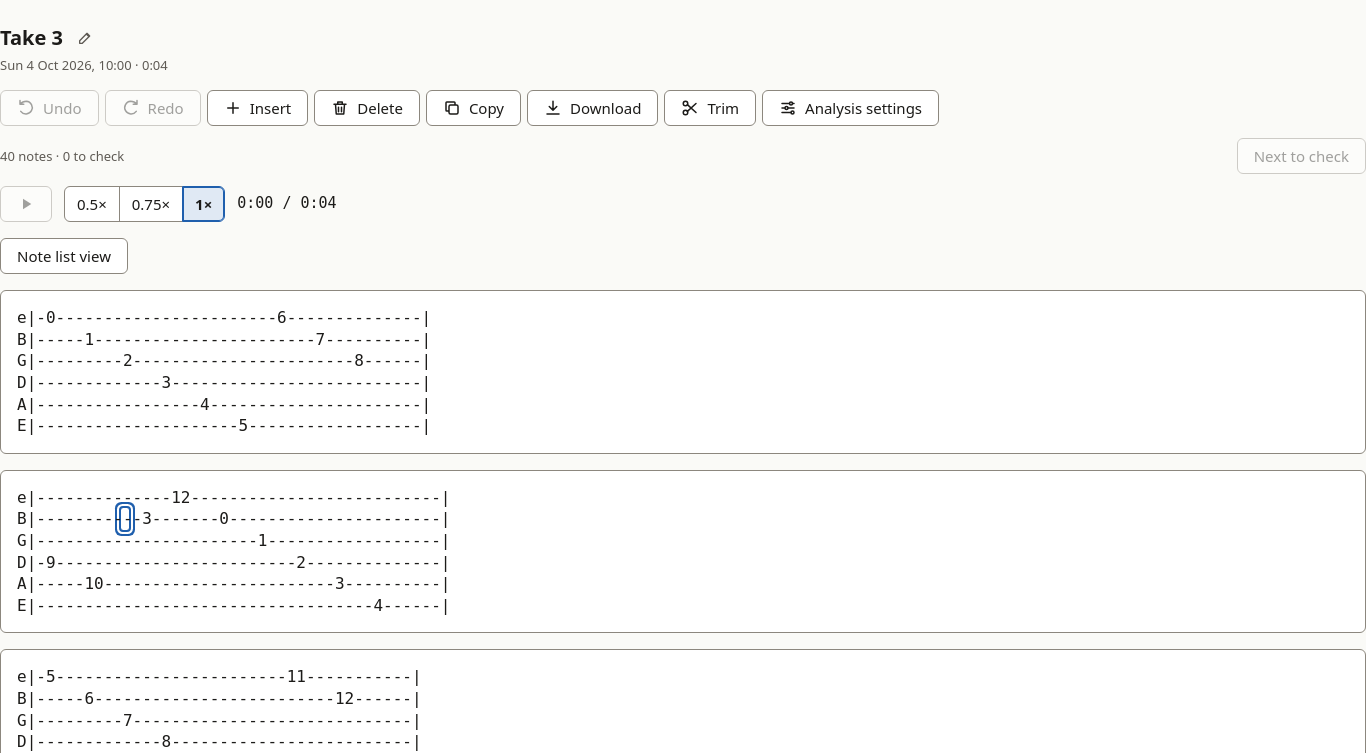
Test case: Tab screen tab area, header and selection › the edit popover › Tab cycles inside; Esc closes with no change and focus goes back to the note
Double-click the button named "Note 12: B string, fret 3, D4, at 4.25 seconds" at [125, 519], box x1=121 y1=508 x2=129 y2=530
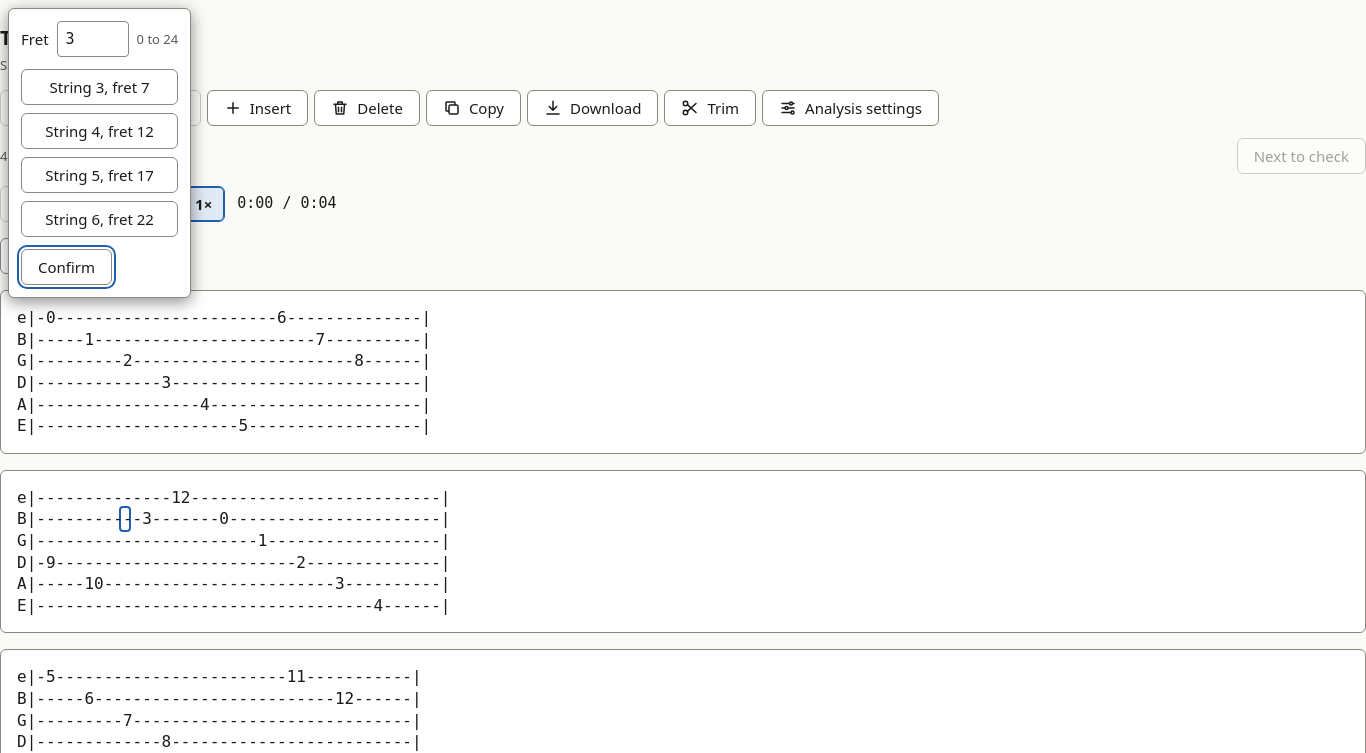
Press Tab in the button "Confirm", box x1=21 y1=249 x2=112 y2=285
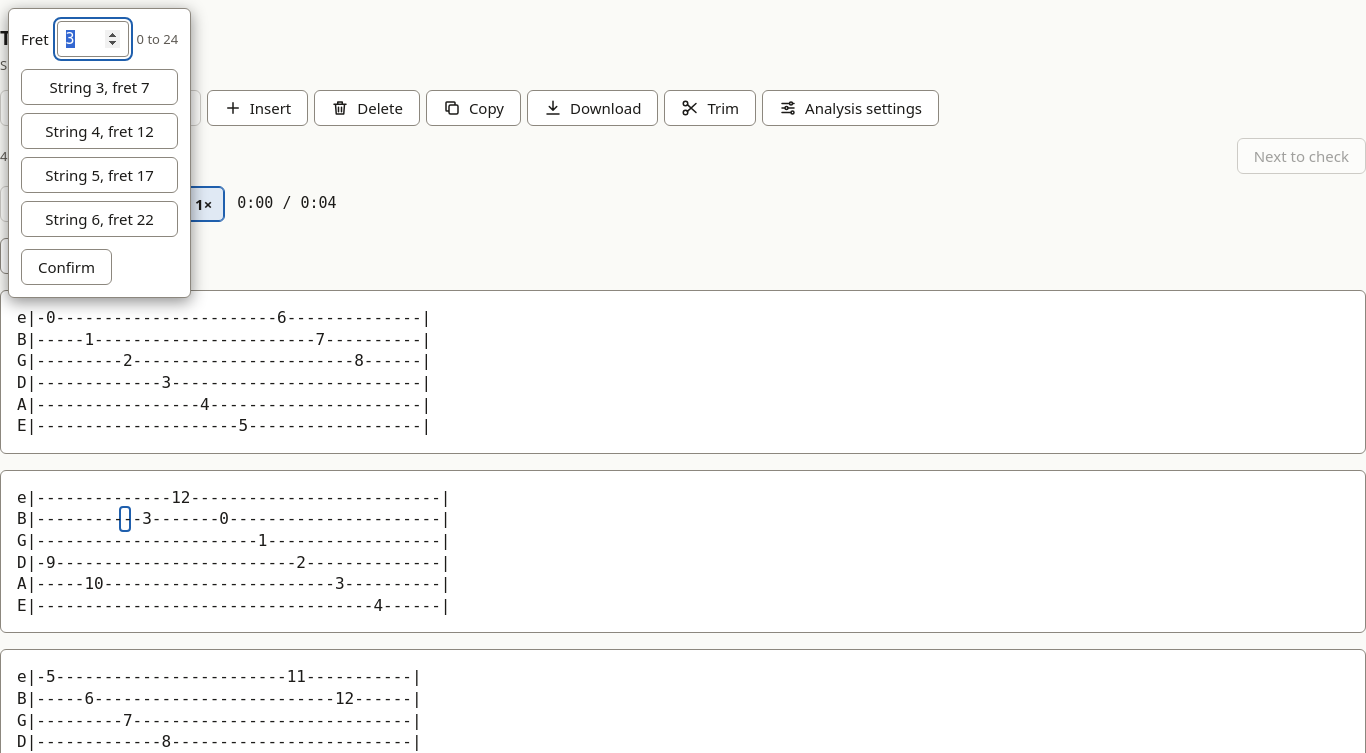
Press Escape in the number field labelled "Fret", box x1=57 y1=21 x2=129 y2=57
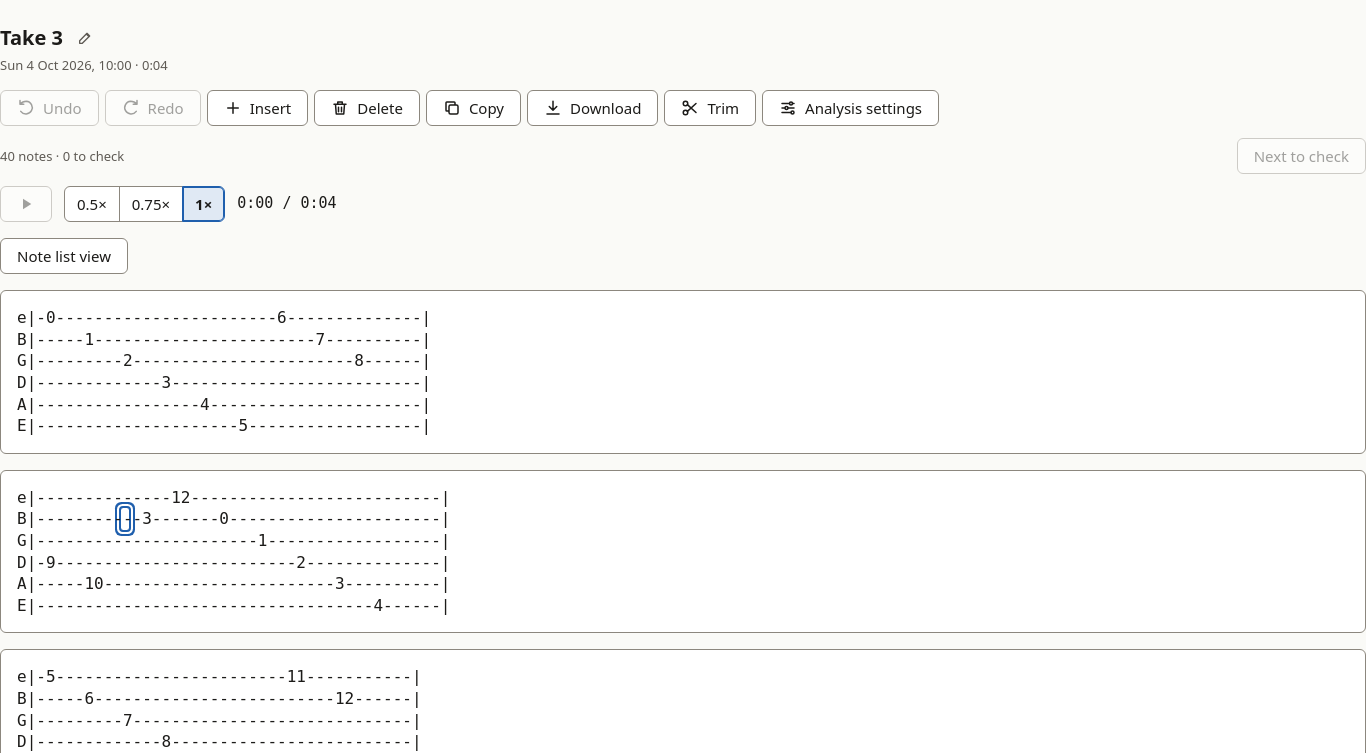
Result: the dialog is gone
